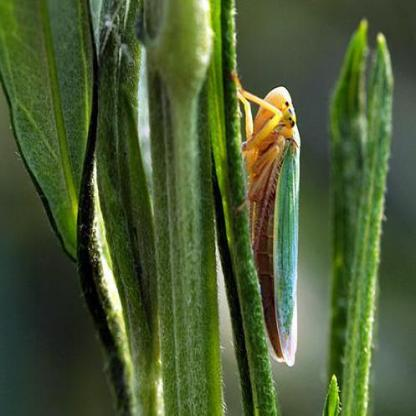Green-Leafhopper: (233, 78, 306, 378)
